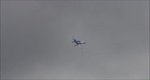maybay_muctieu: (71, 34, 85, 50)
